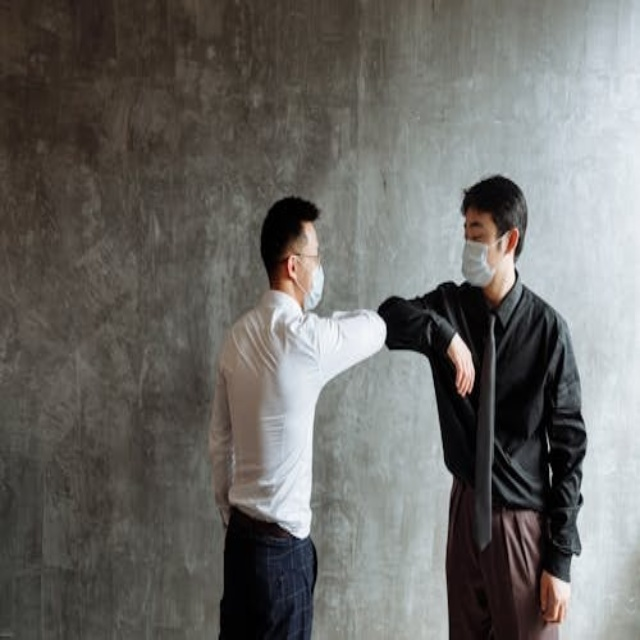Gafas: (284, 251, 321, 265)
Mascara: (462, 233, 509, 288), (292, 258, 324, 312)
Sin_gafas: (460, 221, 493, 248)
Sin_guantes: (442, 327, 476, 402), (535, 561, 571, 628)
